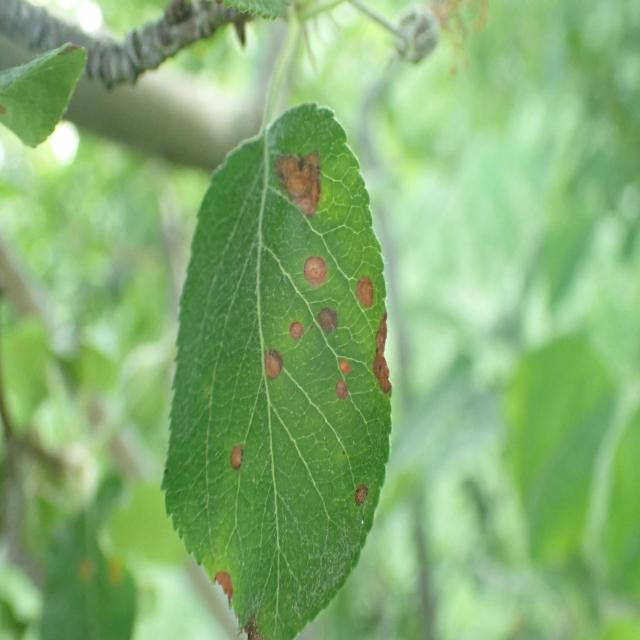Black Rot: (271, 140, 334, 223), (360, 311, 404, 407), (339, 465, 382, 521), (258, 332, 295, 394), (294, 245, 341, 289), (202, 564, 238, 620), (214, 437, 262, 474), (280, 297, 306, 354), (356, 262, 376, 322), (313, 302, 346, 336), (324, 349, 363, 377), (331, 380, 357, 414)
